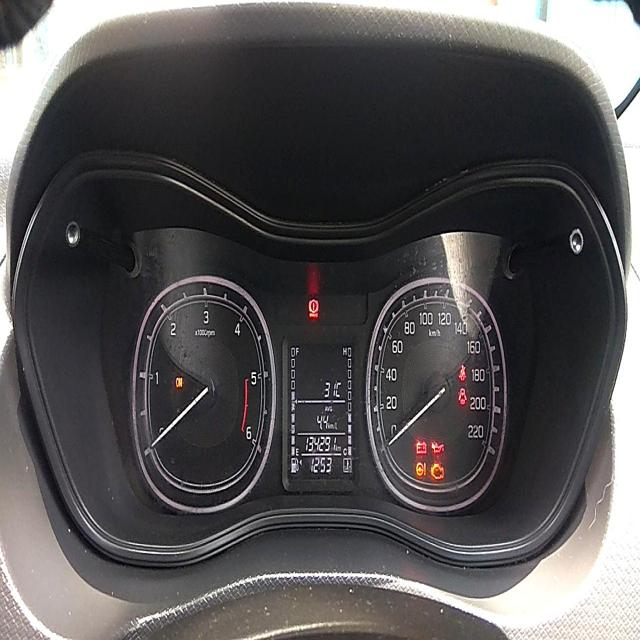odometer: (303, 433, 337, 455)
